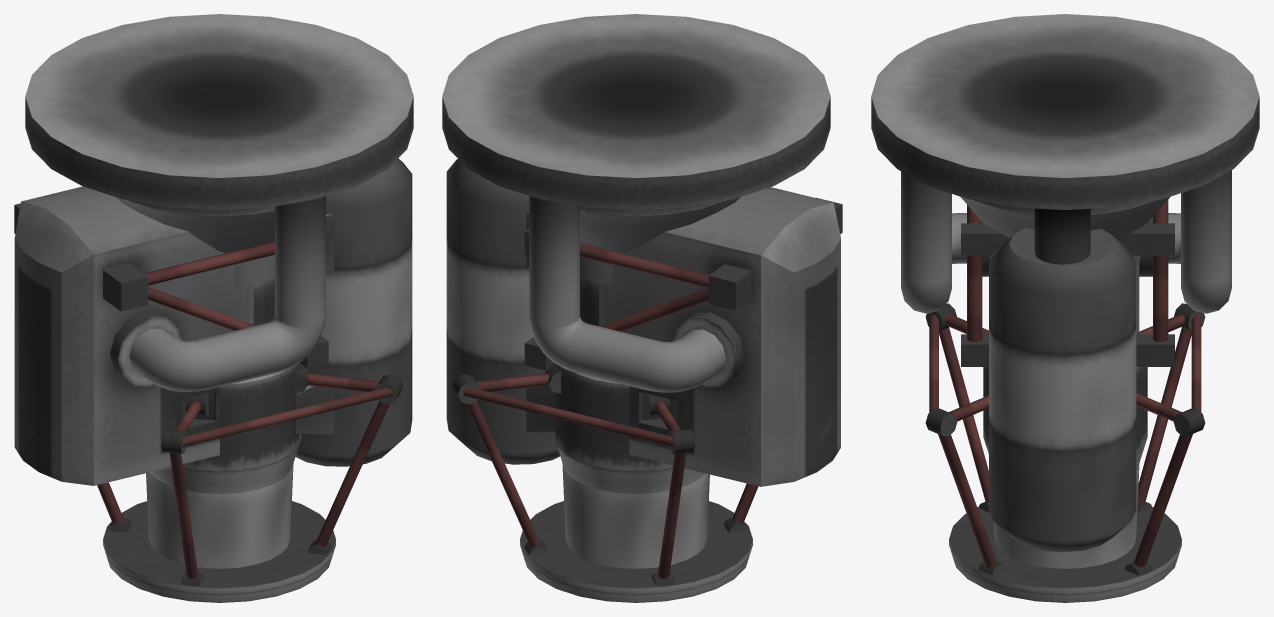
3 renders of one model, left to right at view 1: azimuth 30°, elevation 25°; view 2: azimuth 150°, elevation 25°; view 3: azimuth 270°, elevation 25°, orthographic.
Parts seen in each view (by area): view 1: EngineCore, pCube28, MountingBracket7, Gimbal, pCylinder24, group9_pCylinder36; view 2: EngineCore, pCube28, MountingBracket7, Gimbal, pCylinder62, group9_pCylinder36; view 3: EngineCore, MountingBracket7, Gimbal, group9_pCylinder36, pCylinder62, pCylinder24.
Part boxes in pixels (bbox=[...]): EngineCore: bbox=[25, 14, 413, 568]; pCube28: bbox=[14, 186, 253, 485]; MountingBracket7: bbox=[295, 158, 412, 466]; Gimbal: bbox=[97, 364, 403, 602]; pCylinder24: bbox=[110, 196, 325, 391]; group9_pCylinder36: bbox=[14, 203, 328, 368]; EngineCore: bbox=[442, 14, 830, 568]; pCube28: bbox=[599, 187, 840, 486]; MountingBracket7: bbox=[446, 159, 559, 464]; Gimbal: bbox=[452, 364, 758, 602]; pCylinder62: bbox=[529, 196, 744, 392]; group9_pCylinder36: bbox=[524, 197, 842, 370]; EngineCore: bbox=[871, 14, 1259, 568]; MountingBracket7: bbox=[989, 208, 1136, 552]; Gimbal: bbox=[925, 303, 1205, 602]; group9_pCylinder36: bbox=[961, 200, 1174, 366]; pCylinder62: bbox=[1139, 170, 1231, 313]; pCylinder24: bbox=[901, 171, 990, 313].
Bounding box in the file's own units: 0.6976 × 0.8282 × 0.6333.
